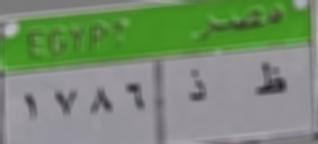1: (20, 87, 43, 126)
6: (124, 80, 147, 119)
7: (52, 86, 78, 124)
8: (85, 82, 113, 121)
Thaa: (254, 59, 291, 102)
zaal: (184, 70, 210, 109)
